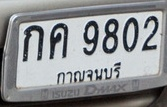txt01: (21, 24, 45, 63)
txt03: (48, 22, 69, 60)
